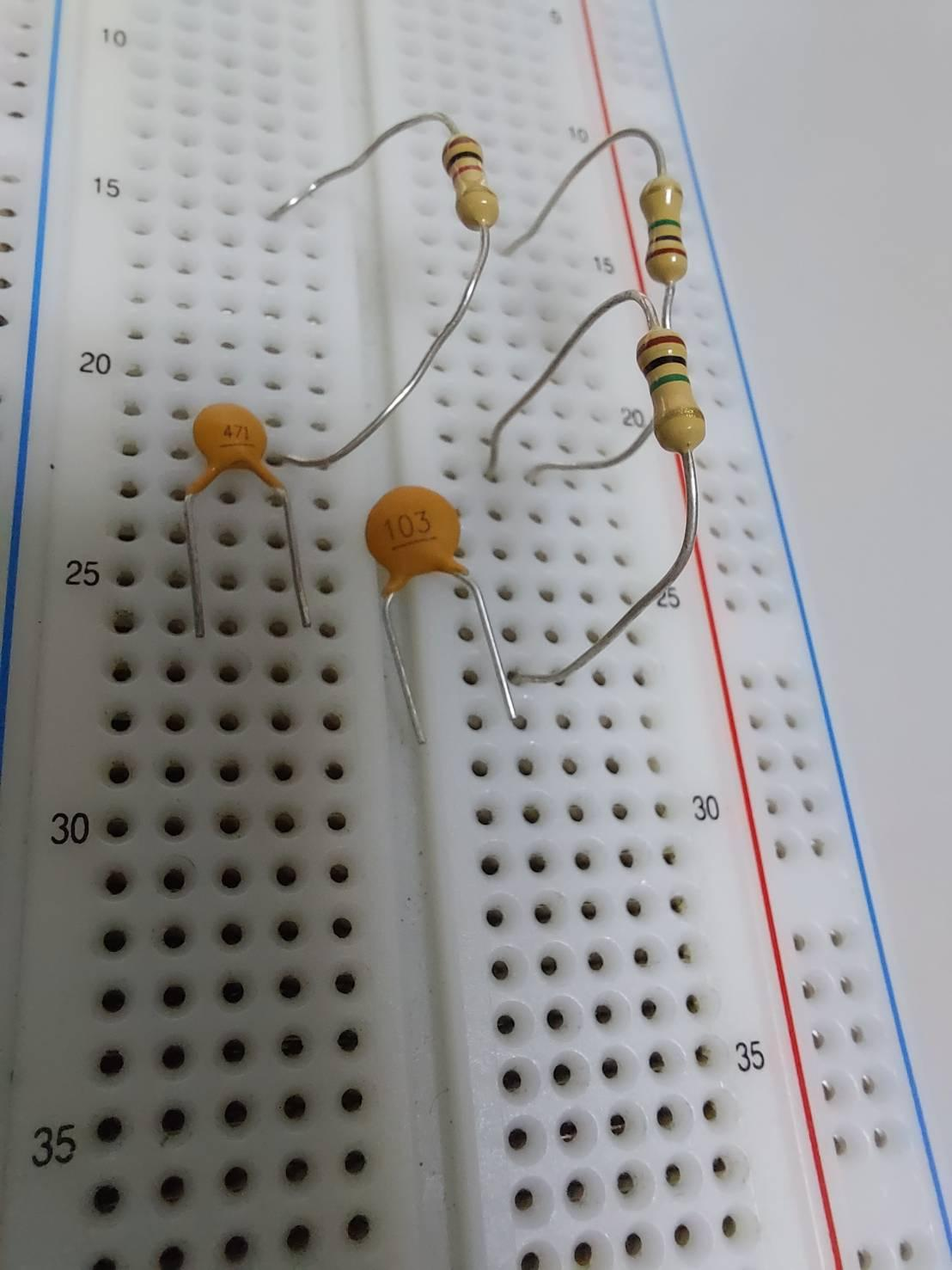resistor: (633, 330, 714, 451), (438, 134, 506, 232), (636, 179, 695, 285)
